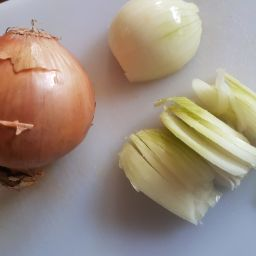Medium chopped onions: (112, 93, 256, 232), (1, 22, 99, 195), (182, 66, 256, 214), (97, 1, 212, 85)
